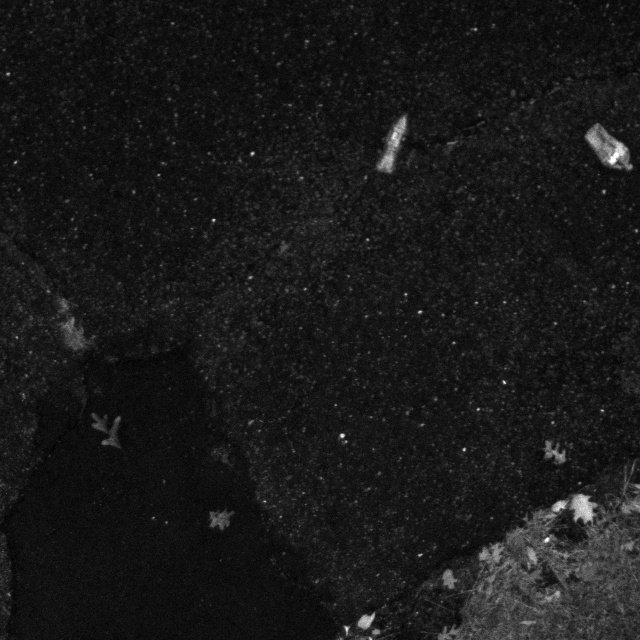bottle: (575, 116, 640, 182), (374, 104, 415, 183)
